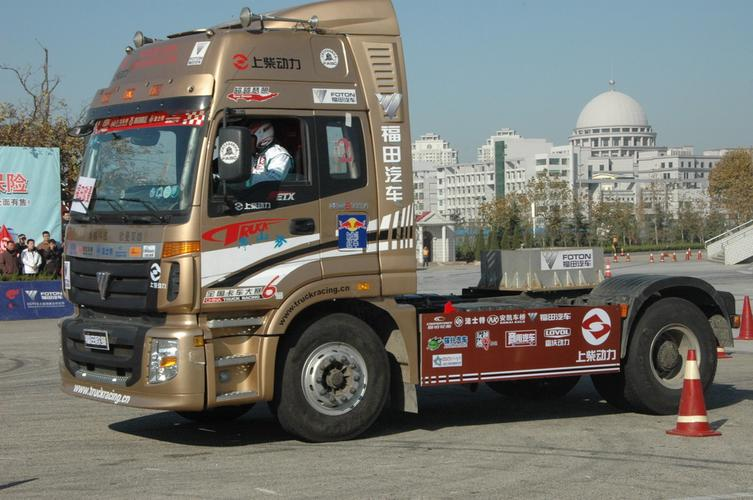卡车: (58, 1, 741, 432)
